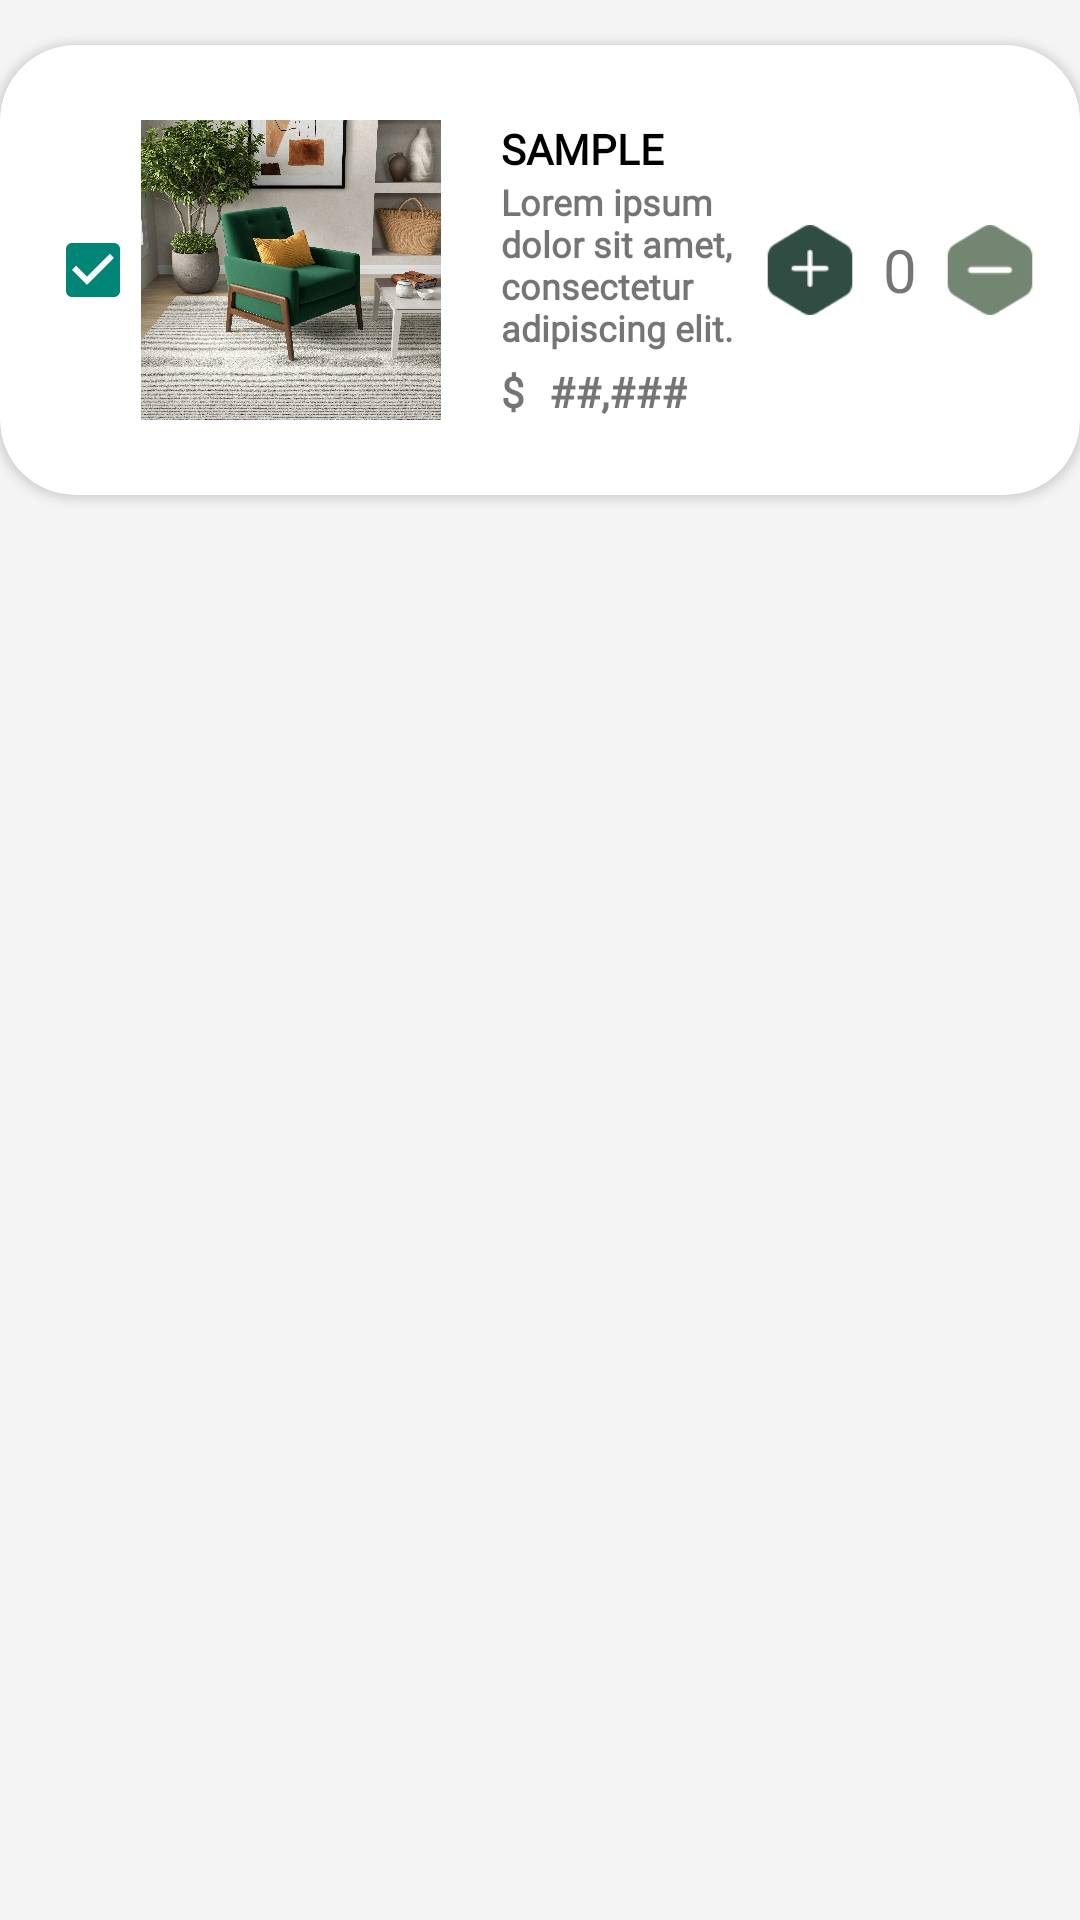

Locate icon controls on the screen. Image size 1080×1920, boxes as Rect(x1, y1, x2, y2).
add furniture: Rect(767, 225, 853, 315)
deduct furniture: Rect(947, 225, 1033, 315)
Furniture Image: Rect(141, 120, 441, 420)
